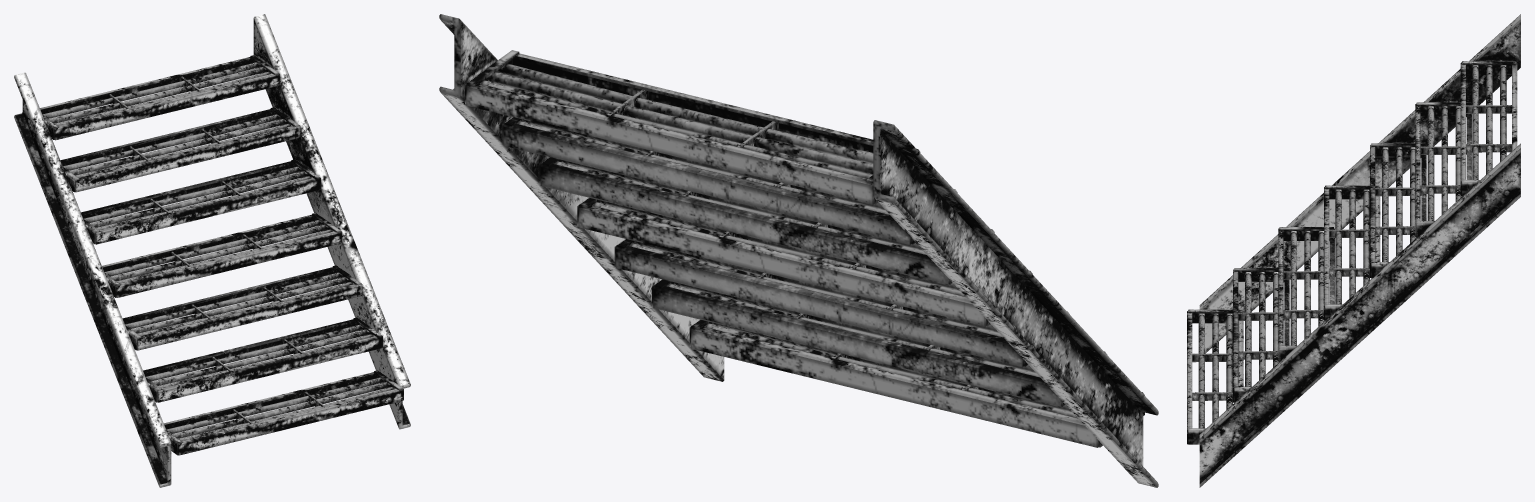
The model's file is sm_SteelCatwalks_01_05_stairs.fbx.
3 renders of one model, left to right at view 1: azimuth 30°, elevation 25°; view 2: azimuth 150°, elevation 25°; view 3: azimuth 270°, elevation 25°, orthographic. The views are drawn at different scales.
Parts seen in each view (by area): view 1: sm_SteelCatwalks_01_05_stairs_LOD0; view 2: sm_SteelCatwalks_01_05_stairs_LOD0; view 3: sm_SteelCatwalks_01_05_stairs_LOD0.
Boxes of the visible parts, bbox=[...] form: sm_SteelCatwalks_01_05_stairs_LOD0: bbox=[14, 14, 410, 487]; sm_SteelCatwalks_01_05_stairs_LOD0: bbox=[439, 14, 1158, 487]; sm_SteelCatwalks_01_05_stairs_LOD0: bbox=[1187, 14, 1520, 487].
Bounding box in the file's own units: 100 × 104 × 117.
